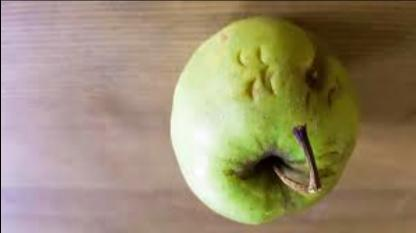defect: (223, 20, 349, 134)
